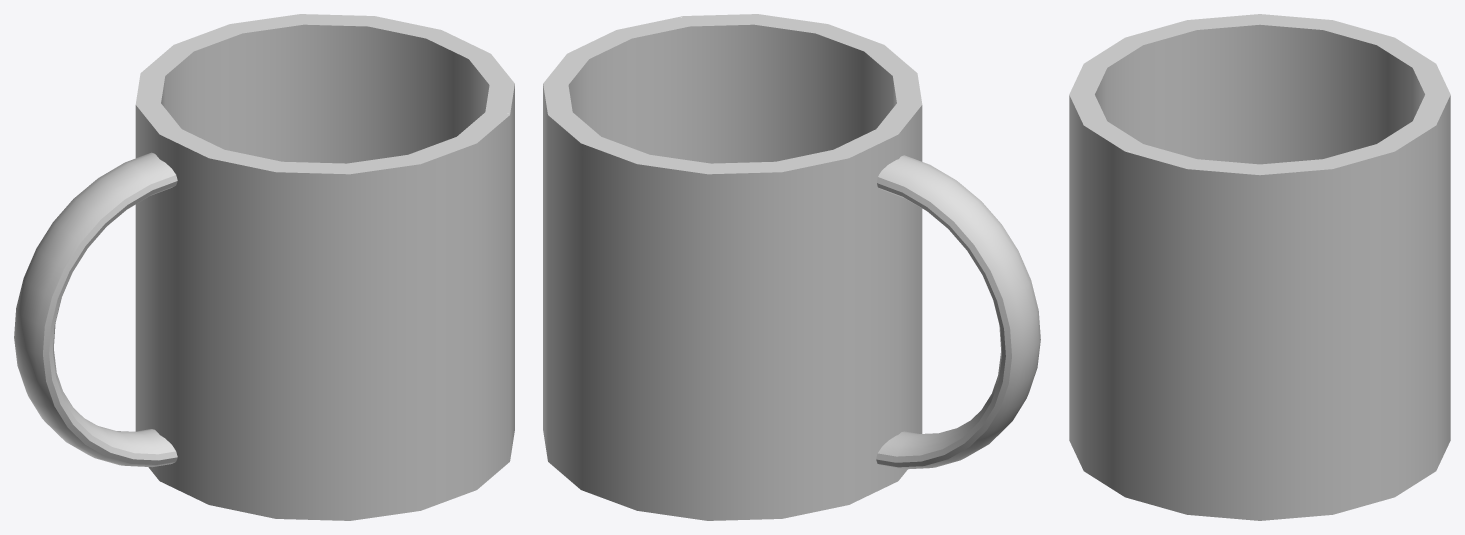
Rendered from TazaBlanca.fbx.
3 views of the same model, side by side, from view 1: azimuth 30°, elevation 25°; view 2: azimuth 150°, elevation 25°; view 3: azimuth 270°, elevation 25° (orthographic).
Visible parts, largest first — view 1: taza; view 2: taza; view 3: taza.
Boxes of the visible parts, x1,y1,x2,y2 form: taza: [14, 14, 514, 520]; taza: [543, 14, 1040, 520]; taza: [1069, 14, 1450, 520].
Size of the model in its own units: 15.38 by 10.88 by 10.88.
